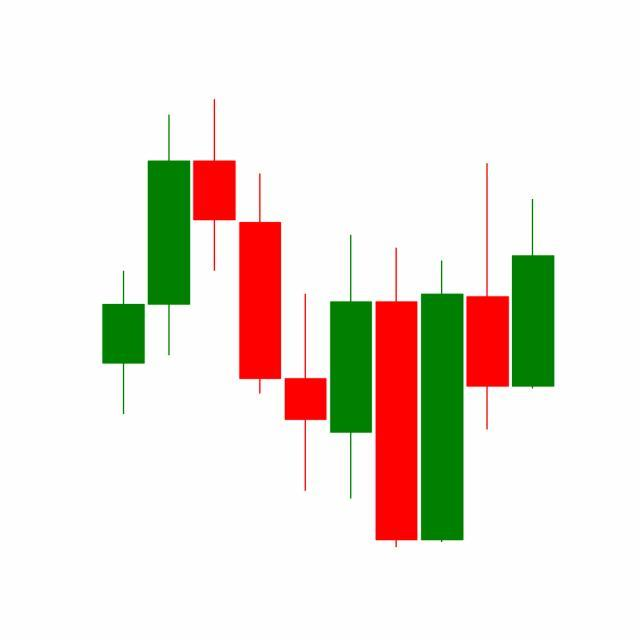Hikkake Pattern: (283, 159, 512, 549)
